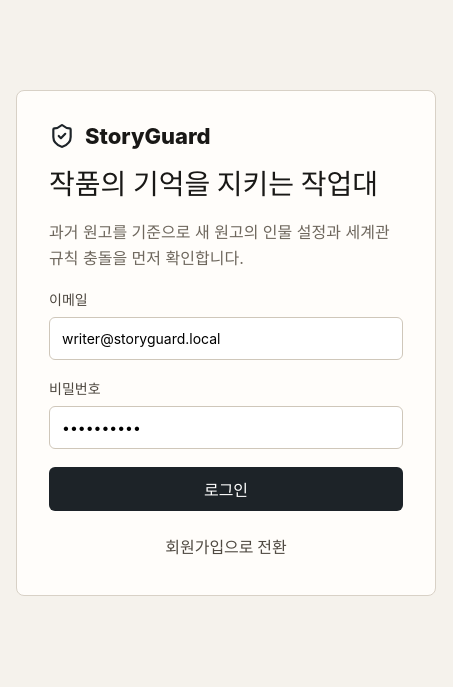
Test: StoryGuard app › shows an inline message when signup email already exists
The image size is (453, 687).
Click the button "회원가입으로 전환". click: click(226, 546)
box: [49, 529, 403, 563]
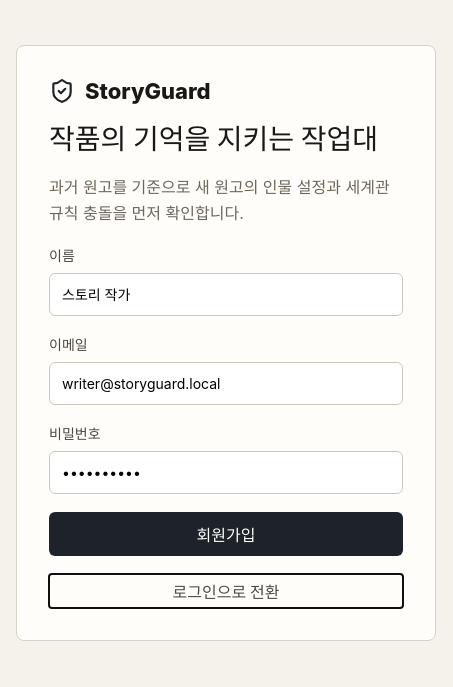
Click the button "회원가입". click: click(226, 534)
box: [49, 512, 403, 556]
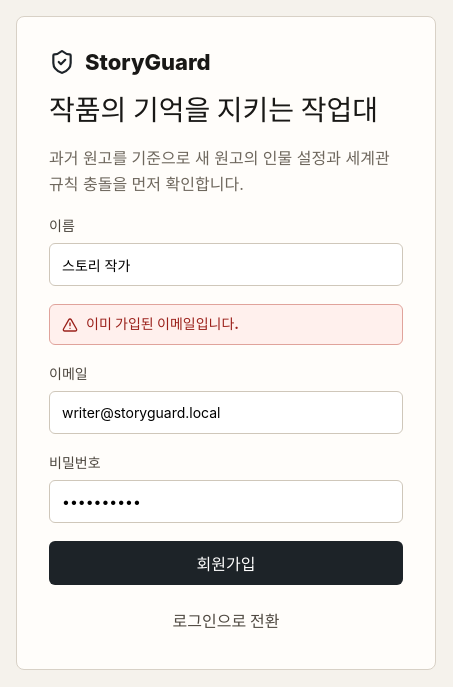
Expected: the button "회원가입" is enabled, [49, 541, 403, 585]
Result: the message reads "이미 가입된 이메일입니다." at [86, 315, 239, 332]
